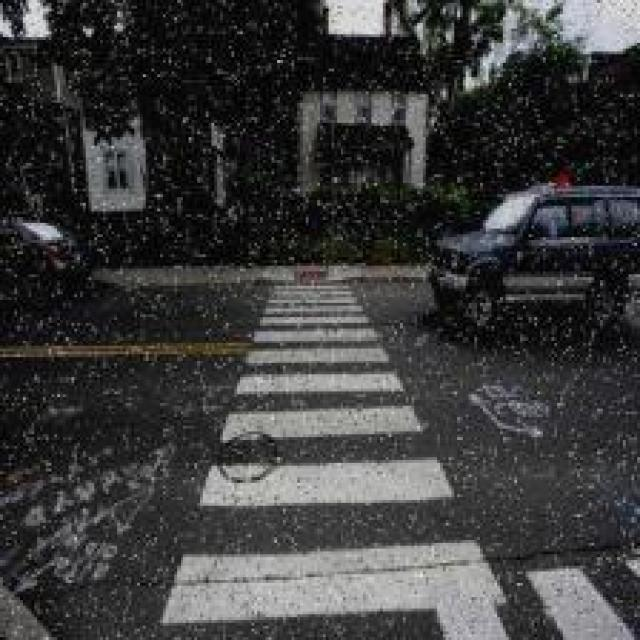crosswalk: (160, 282, 509, 622)
